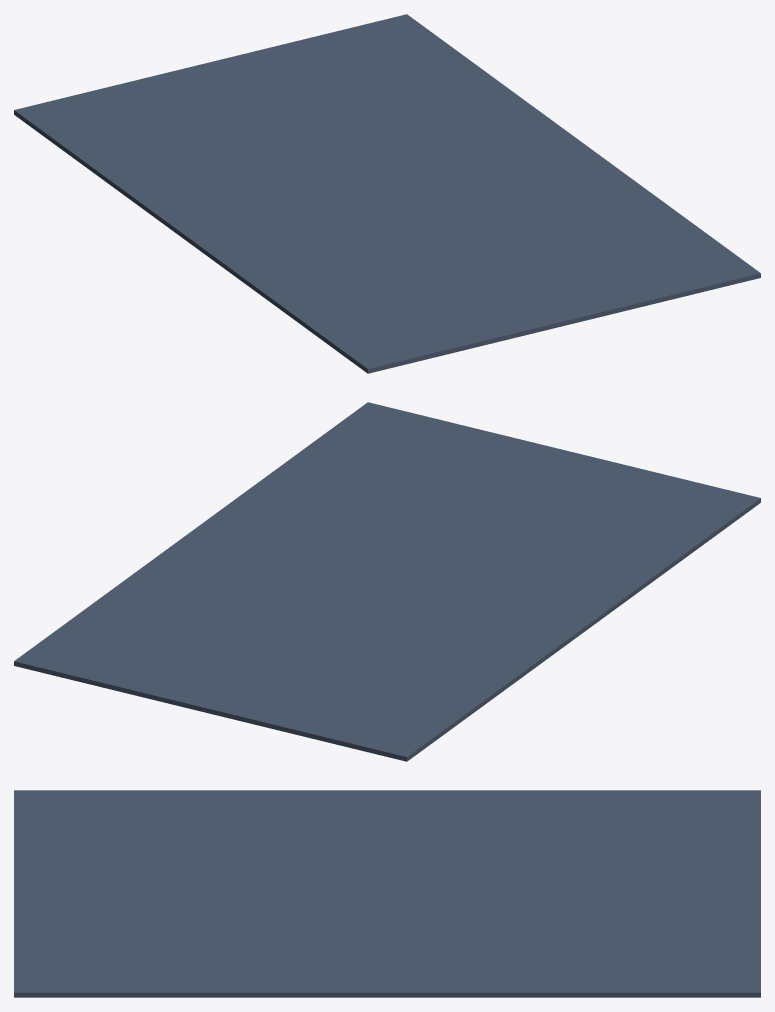
The model's file is floor_geometry.obj.
3 renders of one model, top to bottom at view 1: azimuth 30°, elevation 25°; view 2: azimuth 150°, elevation 25°; view 3: azimuth 270°, elevation 25°, orthographic. The views are drawn at different scales.
Visible parts, largest first — view 1: Floor_001_l_archive_a_staryy_arhiv_edinyy_ishodnyy_floor, Floor_002_l_archive_a_otgorozhennaya_chast_arhiva_floor, Floor_004_l_archive_a_staryy_arhiv_edinyy_ishodnyy_2_floor; view 2: Floor_001_l_archive_a_staryy_arhiv_edinyy_ishodnyy_floor, Floor_002_l_archive_a_otgorozhennaya_chast_arhiva_floor, Floor_004_l_archive_a_staryy_arhiv_edinyy_ishodnyy_2_floor; view 3: Floor_001_l_archive_a_staryy_arhiv_edinyy_ishodnyy_floor, Floor_002_l_archive_a_otgorozhennaya_chast_arhiva_floor, Floor_004_l_archive_a_staryy_arhiv_edinyy_ishodnyy_2_floor, Floor_003_l_archive_a_staryy_arhiv_edinyy_ishodnyy_2_floor.
Part boxes in pixels (x1=…): Floor_001_l_archive_a_staryy_arhiv_edinyy_ishodnyy_floor: x1=14, y1=14, x2=630, y2=277; Floor_002_l_archive_a_otgorozhennaya_chast_arhiva_floor: x1=237, y1=220, x2=588, y2=373; Floor_004_l_archive_a_staryy_arhiv_edinyy_ishodnyy_2_floor: x1=462, y1=178, x2=760, y2=318; Floor_001_l_archive_a_staryy_arhiv_edinyy_ishodnyy_floor: x1=14, y1=497, x2=630, y2=761; Floor_002_l_archive_a_otgorozhennaya_chast_arhiva_floor: x1=410, y1=444, x2=760, y2=597; Floor_004_l_archive_a_staryy_arhiv_edinyy_ishodnyy_2_floor: x1=238, y1=402, x2=535, y2=538; Floor_001_l_archive_a_staryy_arhiv_edinyy_ishodnyy_floor: x1=288, y1=790, x2=760, y2=997; Floor_002_l_archive_a_otgorozhennaya_chast_arhiva_floor: x1=14, y1=790, x2=288, y2=904; Floor_004_l_archive_a_staryy_arhiv_edinyy_ishodnyy_2_floor: x1=14, y1=906, x2=288, y2=997; Floor_003_l_archive_a_staryy_arhiv_edinyy_ishodnyy_2_floor: x1=14, y1=904, x2=288, y2=905.
Bounding box in the file's own units: 17.78 × 0.2 × 27.73.
